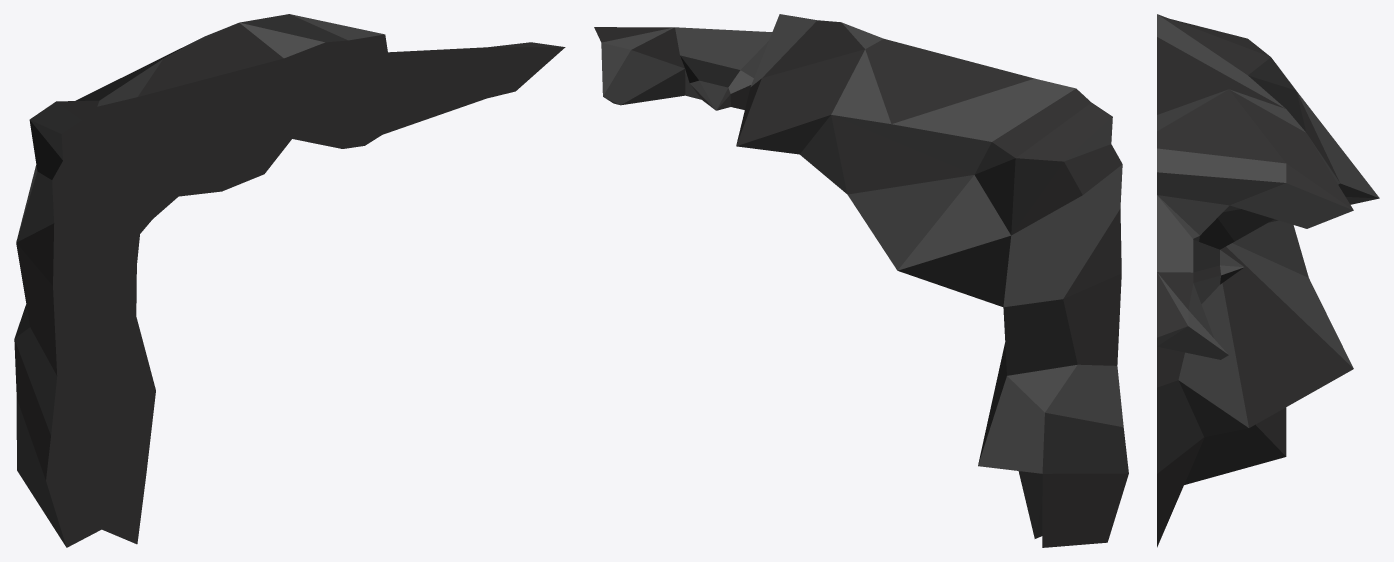
Rendered from vol_mountain_1.fbx.
3 renders of one model, left to right at view 1: azimuth 30°, elevation 25°; view 2: azimuth 150°, elevation 25°; view 3: azimuth 270°, elevation 25°, orthographic. The views are drawn at different scales.
Visible parts, largest first — view 1: desert_middle_mountain_3.002; view 2: desert_middle_mountain_3.002; view 3: desert_middle_mountain_3.002.
Boxes of the visible parts, bbox=[...] form: desert_middle_mountain_3.002: bbox=[14, 14, 565, 547]; desert_middle_mountain_3.002: bbox=[594, 14, 1128, 547]; desert_middle_mountain_3.002: bbox=[1157, 14, 1379, 547].
Size of the model in its own units: 1058 by 907 by 344.
